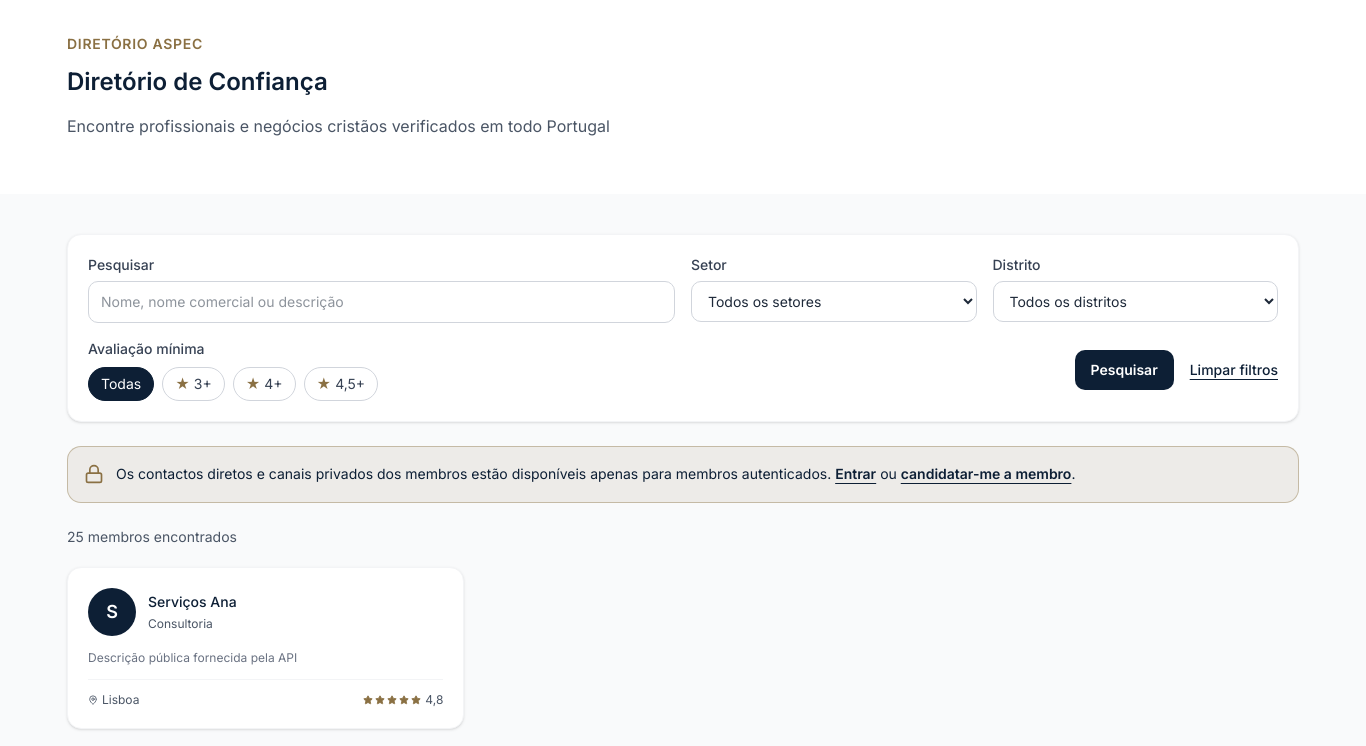
Test: Diretório de membros › reinicia a primeira página ao mudar setor ou distrito e preserva a pesquisa e a avaliação
Expected: the heading "Serviços Ana" is shown, [148,592,237,612]
Type "Ana" into the search field labelled "Pesquisar".
click(382, 302); type("Ana")  # box [88,281,675,323]
Click the button "Pesquisar".
click(1124, 370)  # box [1074,350,1174,390]
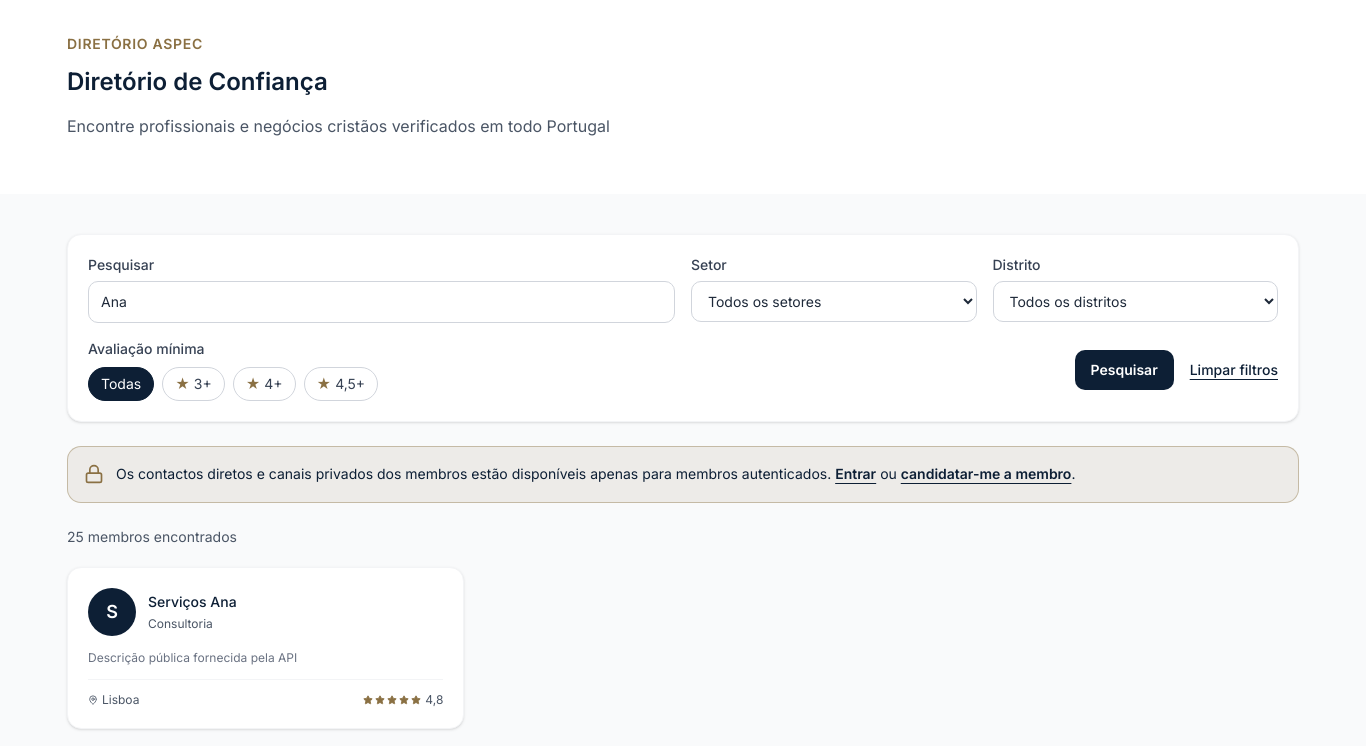
Expected: the heading "Serviços Ana" is shown, [148,592,237,612]
Click the button named "Pelo menos 4 estrelas".
click(264, 384)  # box [233,367,296,401]
(page scrolled)
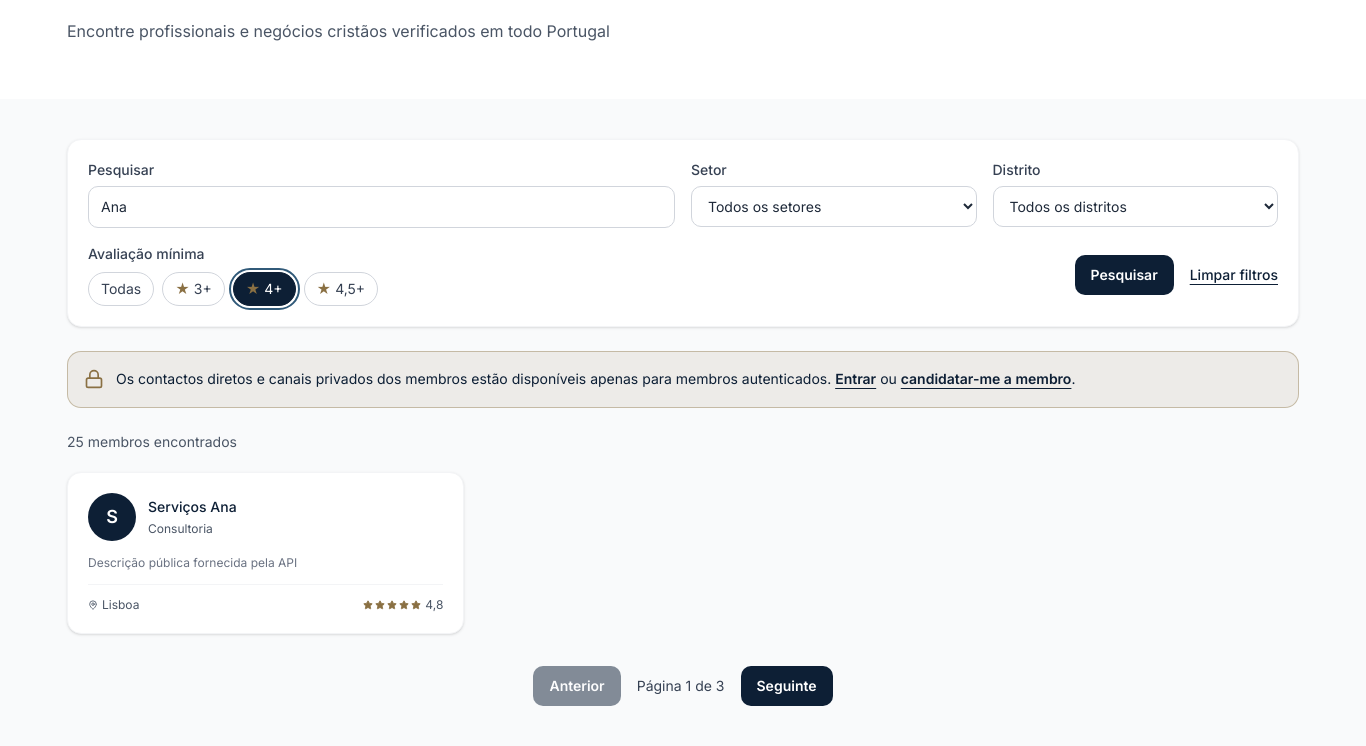
Expected: the heading "Serviços Ana" is shown, [148,497,237,517]
Click the button "Seguinte".
click(786, 686)  # box [740,666,832,706]
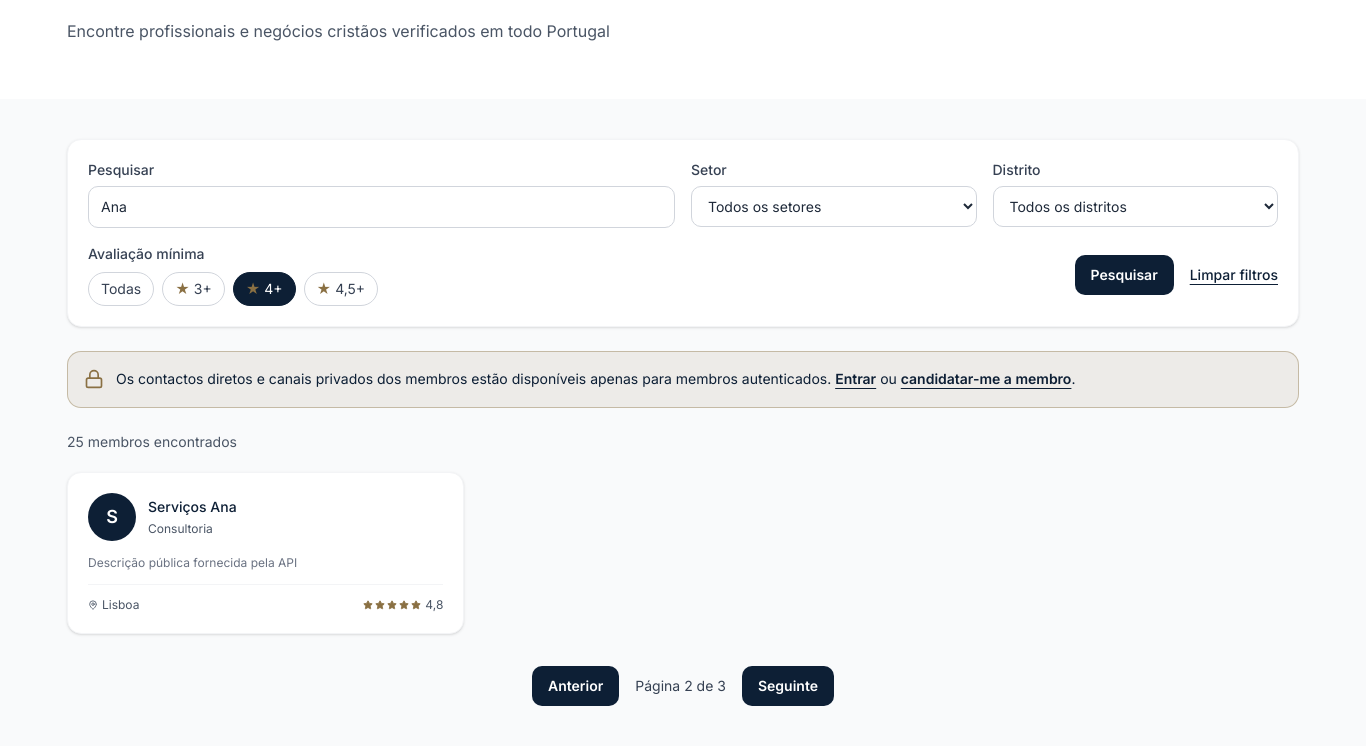
Expected: the text "Página 2 de 3" is shown, [635,676,726,696]
Select "Consultoria" in the dropdown labelled "Setor" at x=834, y=206, box [691,186,976,227]
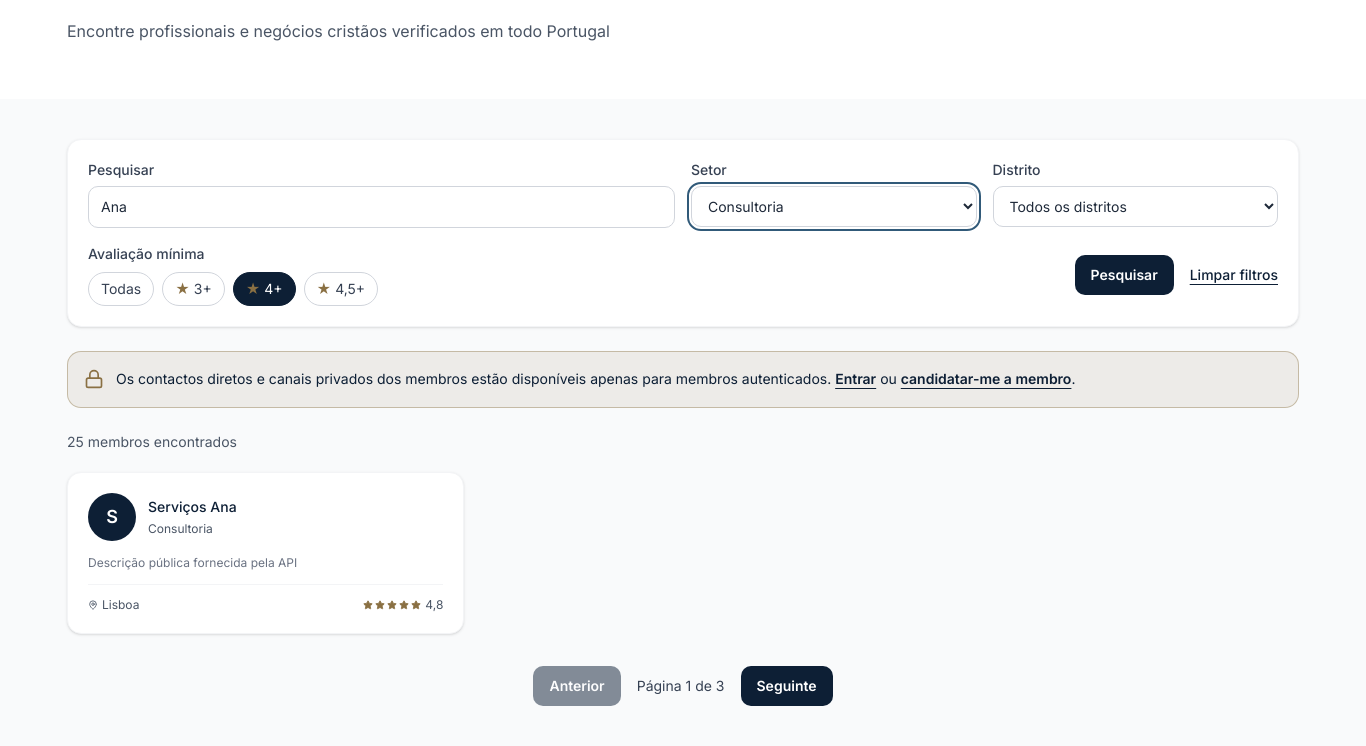
Expected: the text "Página 1 de 3" is shown, [637,676,724,696]
Click the button "Seguinte".
click(786, 686)  # box [740,666,832,706]
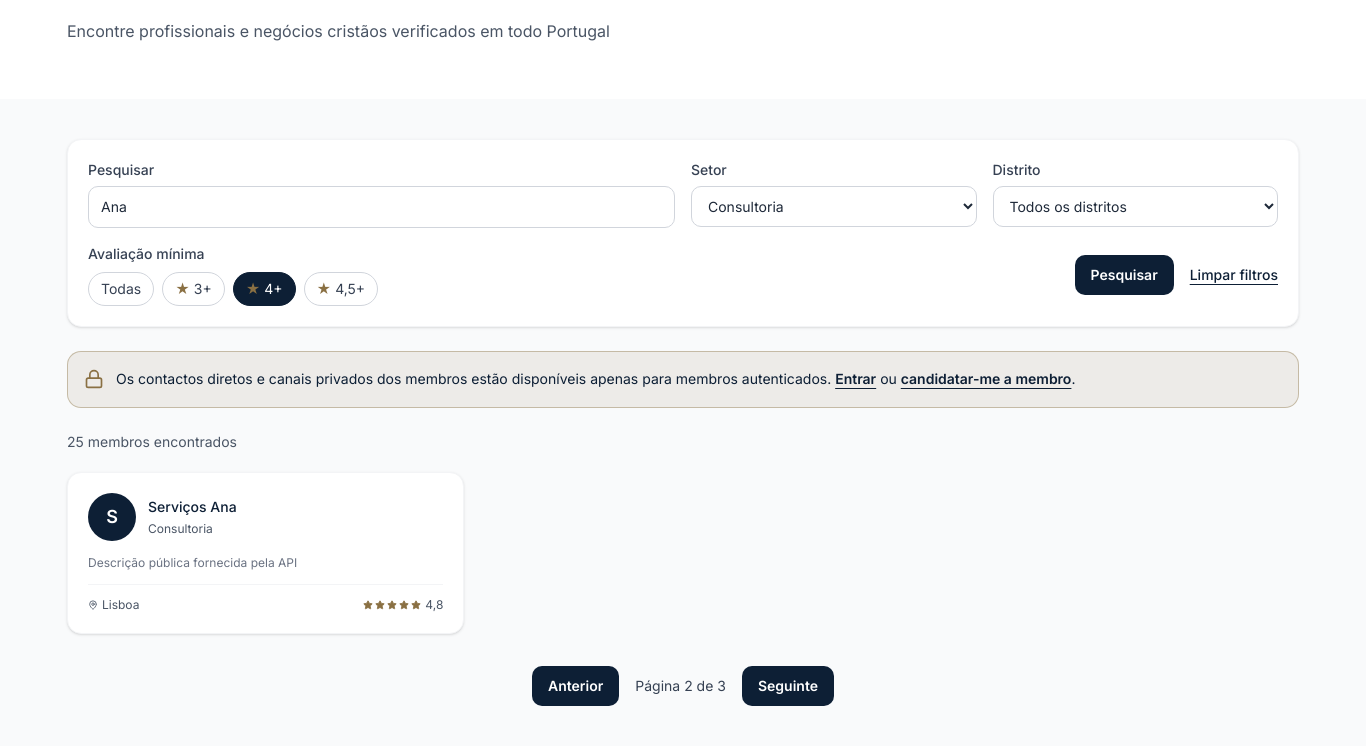
Expected: the text "Página 2 de 3" is shown, [635,676,726,696]
Select "Lisboa" in the dropdown labelled "Distrito" at x=1135, y=206, box [992,186,1278,227]
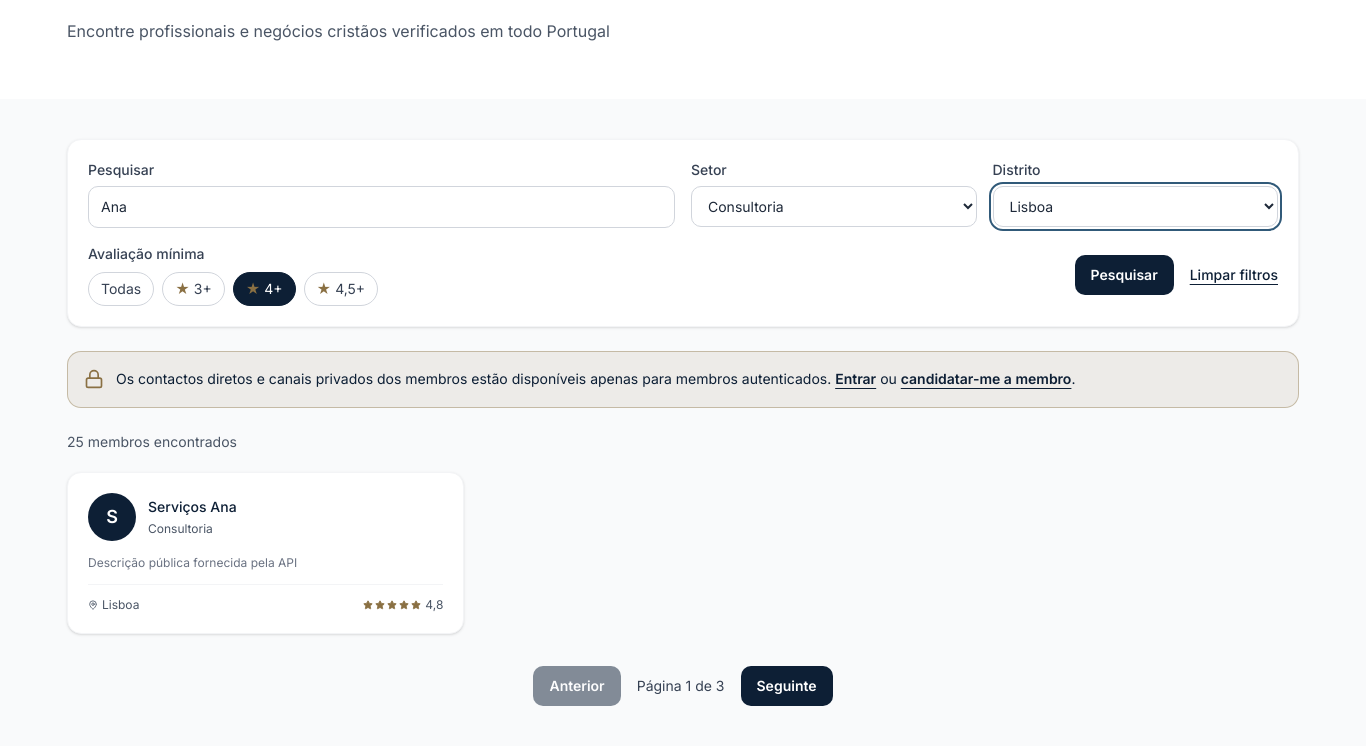
Expected: the text "Página 1 de 3" is shown, [637,676,724,696]
